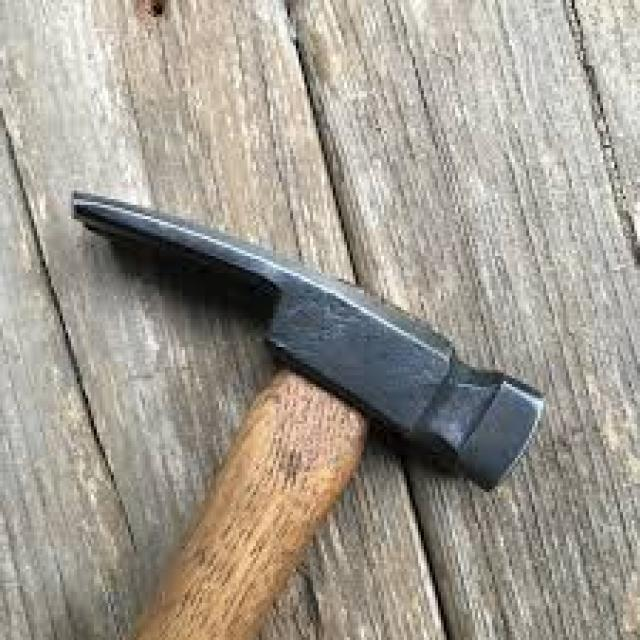hammer: (66, 176, 548, 640)
